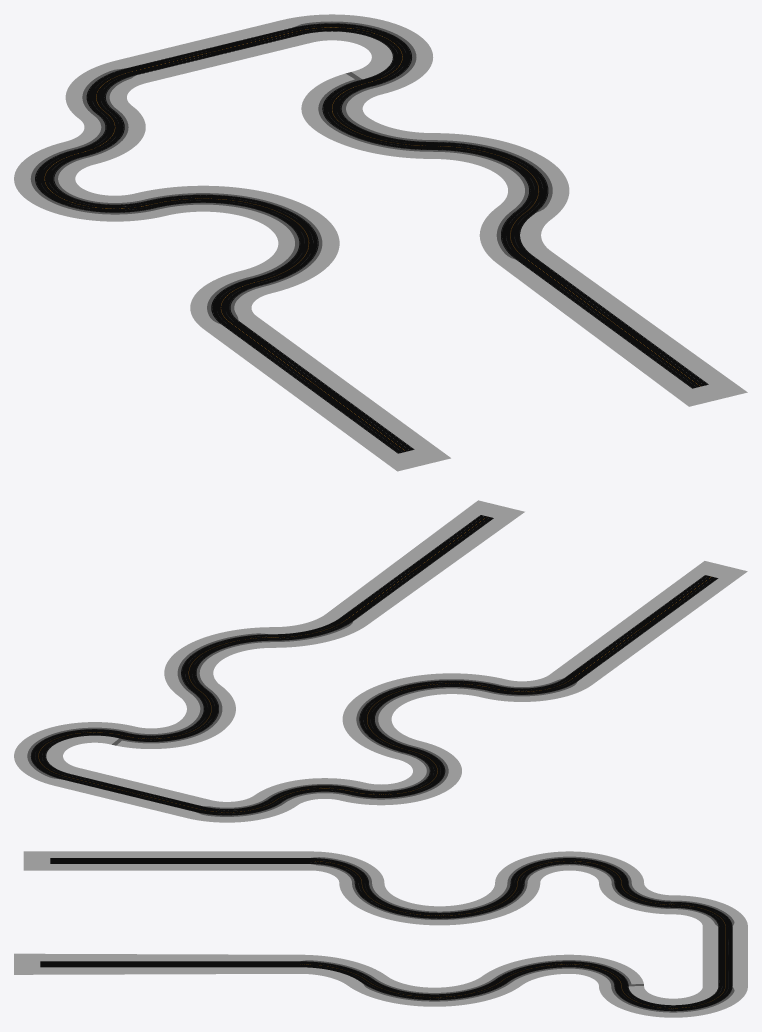
Rendered from race4.fbx.
3 views of the same model, one above another, from view 1: azimuth 30°, elevation 25°; view 2: azimuth 150°, elevation 25°; view 3: azimuth 270°, elevation 25° (orthographic). The views are drawn at different scales.
Parts seen in each view (by area): view 1: polySurface60; view 2: polySurface60; view 3: polySurface60.
Boxes of the visible parts, <box> form: polySurface60: <box>14,14,747,471</box>; polySurface60: <box>14,500,747,822</box>; polySurface60: <box>14,851,747,1017</box>.
Size of the model in its own units: 43242 by 5.41e-12 by 80559.
